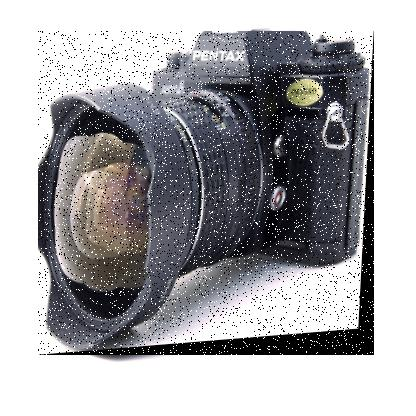Camera: (39, 32, 376, 357)
